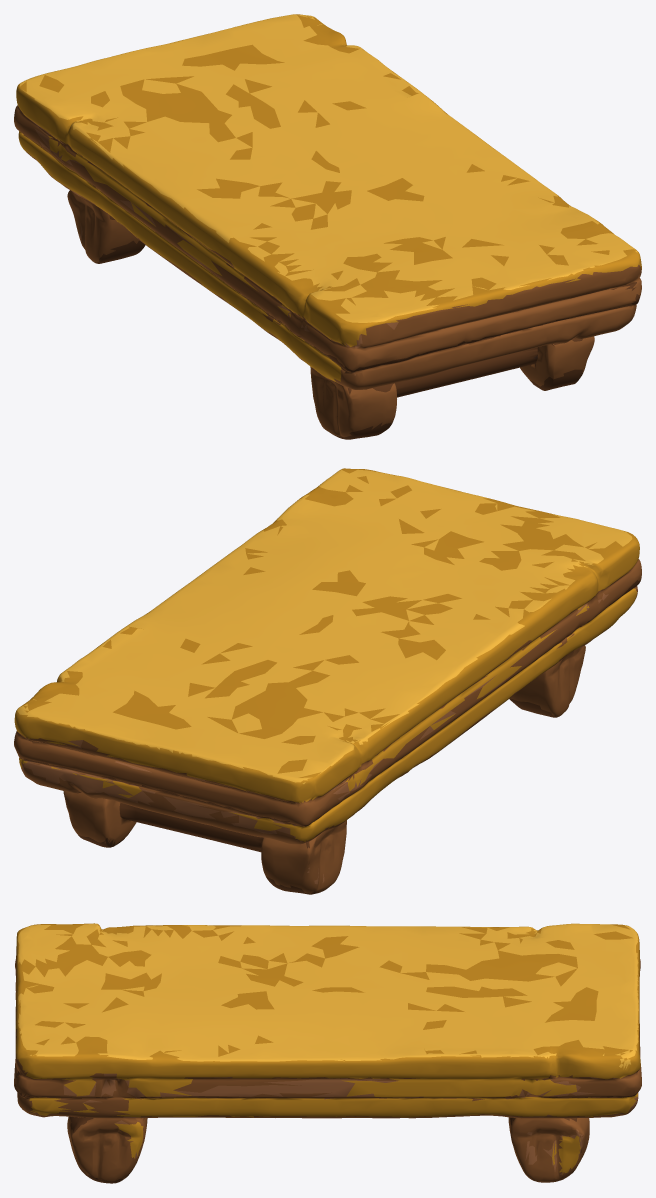
Rendered from SM_table_low_wood.fbx.
The picture shows the model from 3 angles, top to bottom: view 1: azimuth 30°, elevation 25°; view 2: azimuth 150°, elevation 25°; view 3: azimuth 270°, elevation 25°; orthographic projection. The views are drawn at different scales.
Visible parts, largest first — view 1: SM_table_low_wood; view 2: SM_table_low_wood; view 3: SM_table_low_wood.
Part boxes in pixels (x1,y1,x2,y2): SM_table_low_wood: [14, 14, 641, 439]; SM_table_low_wood: [14, 468, 641, 894]; SM_table_low_wood: [14, 923, 641, 1183].
Size of the model in its own units: 72.15 by 35 by 141.
1 material, 1 textured.
